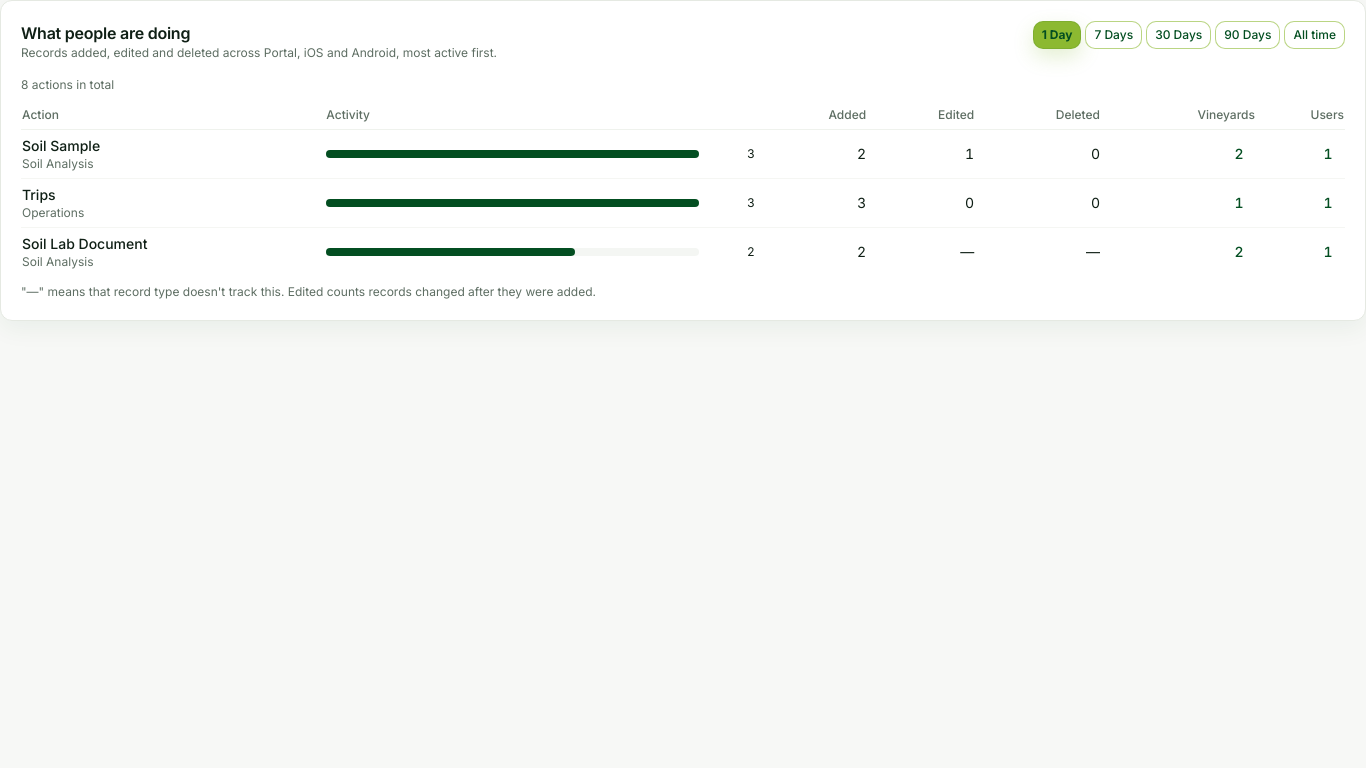
Test: What people are doing — soil activity › opens the soil user list from the user count
Expected: the text "Soil Sample" is shown, [22,137,100,154]
Click the button named "Soil Sample: 1 users" at x=1328, y=154, box [1312,144,1344,164]
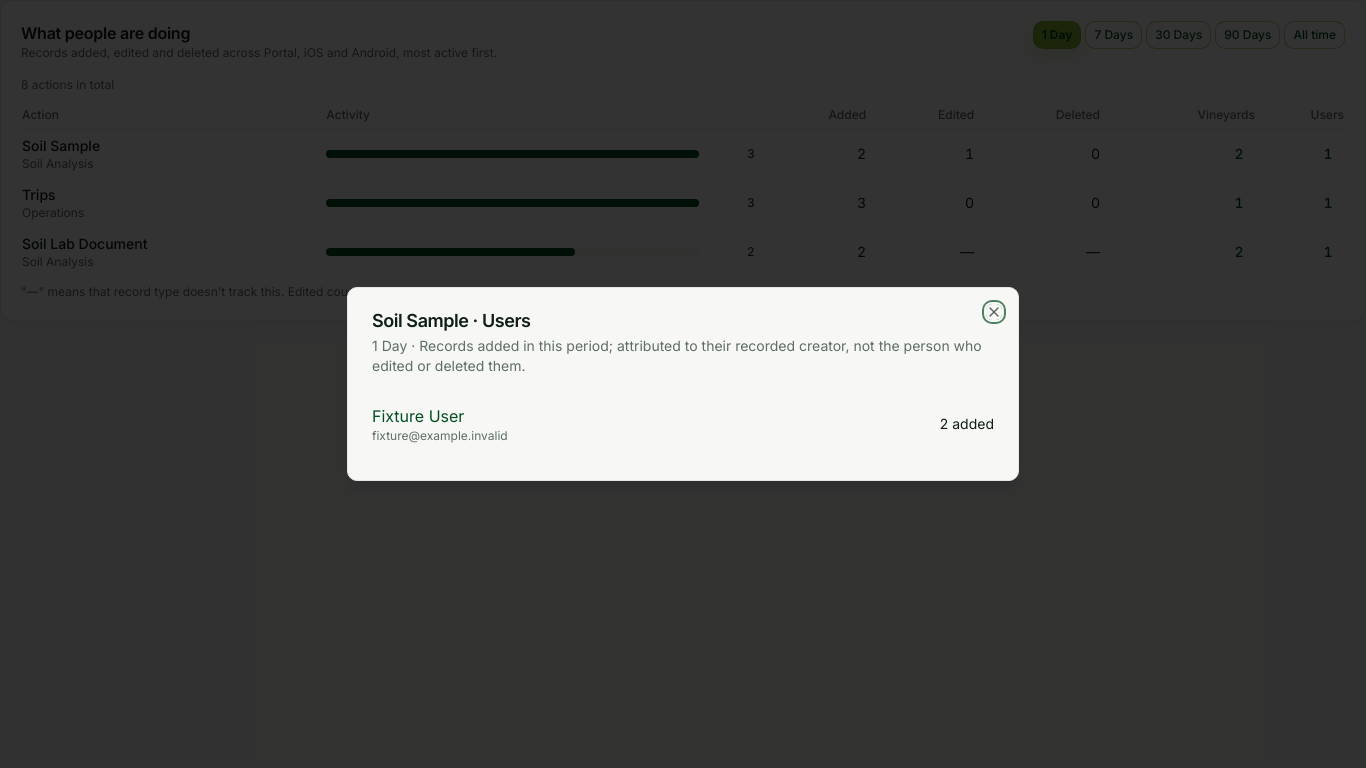
Expected: the link "Fixture User" is shown, [372,406,464,426]
Expected: the text "fixture@example.invalid" is shown, [372,428,508,444]
